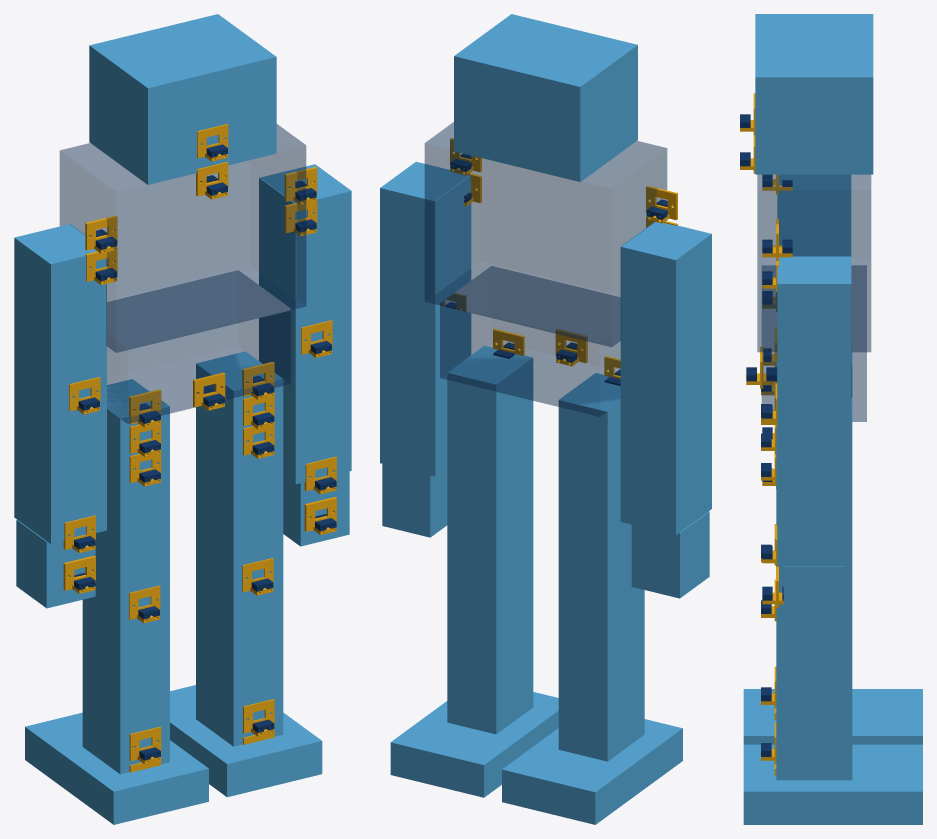
File: HR30_25_axis_transition_brackets_candidate.glb
3 renders of one model, left to right at view 1: azimuth 30°, elevation 25°; view 2: azimuth 150°, elevation 25°; view 3: azimuth 270°, elevation 25°, orthographic. The views are drawn at different scales.
Parts seen in each view (by area): view 1: BODY-TORSO, BODY-LEFT-LEG, BODY-RIGHT-ARM, BODY-HEAD, BODY-RIGHT-LEG, BODY-LEFT-ARM, BODY-PELVIS, BODY-RIGHT-FOOT, BODY-LEFT-FOOT, BODY-RIGHT-HAND, BODY-LEFT-HAND, ATB-L_SHOULDER_PITCH-BASE (+22 smaller); view 2: BODY-TORSO, BODY-LEFT-LEG, BODY-RIGHT-LEG, BODY-RIGHT-ARM, BODY-HEAD, BODY-LEFT-ARM, BODY-PELVIS, BODY-RIGHT-FOOT, BODY-LEFT-FOOT, BODY-RIGHT-HAND, BODY-LEFT-HAND, ATB-WAIST_YAW-BASE (+1 smaller); view 3: BODY-LEFT-ARM, BODY-HEAD, BODY-LEFT-LEG, BODY-TORSO, BODY-LEFT-FOOT, BODY-RIGHT-ARM, BODY-RIGHT-FOOT, BODY-PELVIS, BODY-LEFT-HAND.
Part boxes in pixels (x1,y1,x2,y2): BODY-TORSO: (59,124,306,352); BODY-LEFT-LEG: (196,351,283,746); BODY-RIGHT-ARM: (14,224,106,543); BODY-HEAD: (89,14,276,184); BODY-RIGHT-LEG: (82,379,169,774); BODY-LEFT-ARM: (259,164,351,484); BODY-PELVIS: (107,270,290,423); BODY-RIGHT-FOOT: (25,712,208,824); BODY-LEFT-FOOT: (170,685,322,797); BODY-RIGHT-HAND: (16,519,95,608); BODY-LEFT-HAND: (283,471,349,546); ATB-L_SHOULDER_PITCH-BASE: (284,167,317,204); BODY-TORSO: (424,122,667,347); BODY-LEFT-LEG: (447,345,533,734); BODY-RIGHT-LEG: (558,373,644,761); BODY-RIGHT-ARM: (620,221,711,535); BODY-HEAD: (454,14,637,181); BODY-LEFT-ARM: (380,161,471,476); BODY-PELVIS: (440,266,620,416); BODY-RIGHT-FOOT: (502,719,682,824); BODY-LEFT-FOOT: (390,692,558,797); BODY-RIGHT-HAND: (631,511,709,598); BODY-LEFT-HAND: (382,464,447,537); ATB-WAIST_YAW-BASE: (555,329,587,366); BODY-LEFT-ARM: (777,256,851,565); BODY-HEAD: (755,14,873,174); BODY-LEFT-LEG: (776,397,852,780); BODY-TORSO: (757,174,871,352); BODY-LEFT-FOOT: (743,744,922,824); BODY-RIGHT-ARM: (777,174,851,256); BODY-RIGHT-FOOT: (743,689,922,744); BODY-PELVIS: (761,265,866,421); BODY-LEFT-HAND: (783,566,844,633).
Size of the model in its own units: 334 by 762 by 173.
